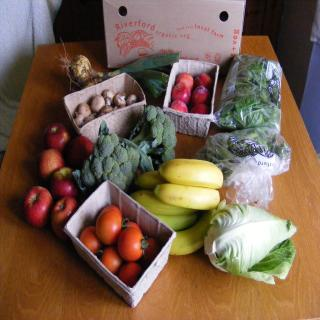tomato: (118, 228, 149, 259), (97, 212, 123, 248), (118, 261, 142, 288), (78, 226, 100, 254), (100, 248, 124, 270), (102, 203, 121, 221), (146, 237, 159, 261)
